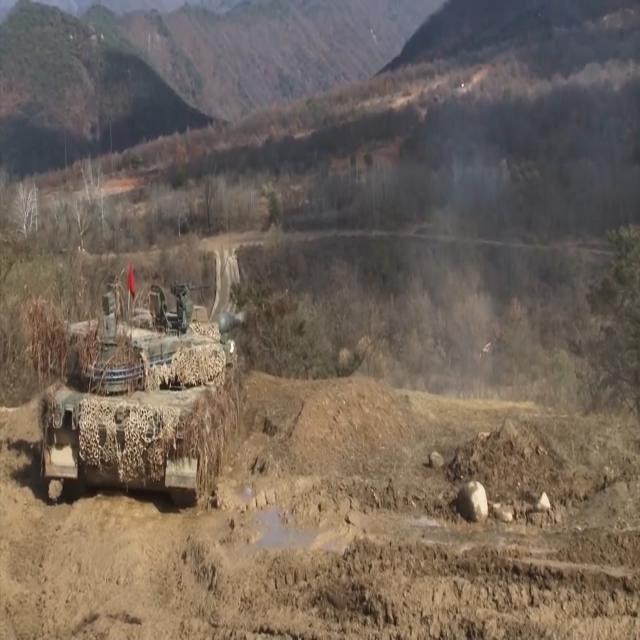korea tank: (27, 279, 291, 512)
